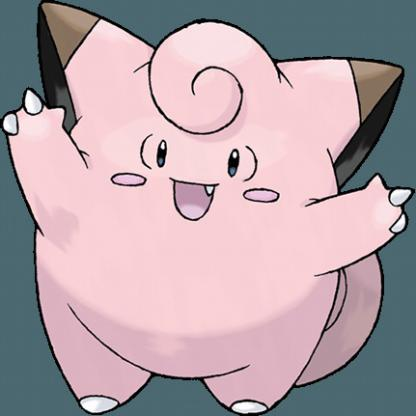Clefairy: (1, 1, 416, 416)
